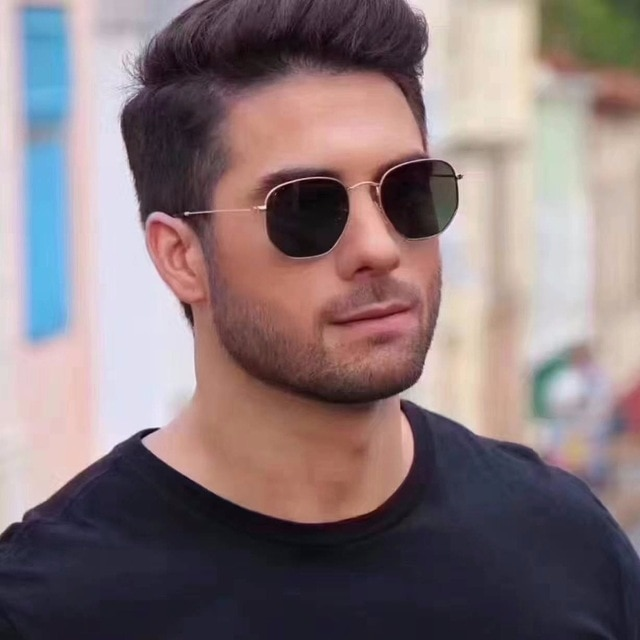sunglasses: (152, 155, 467, 262)
